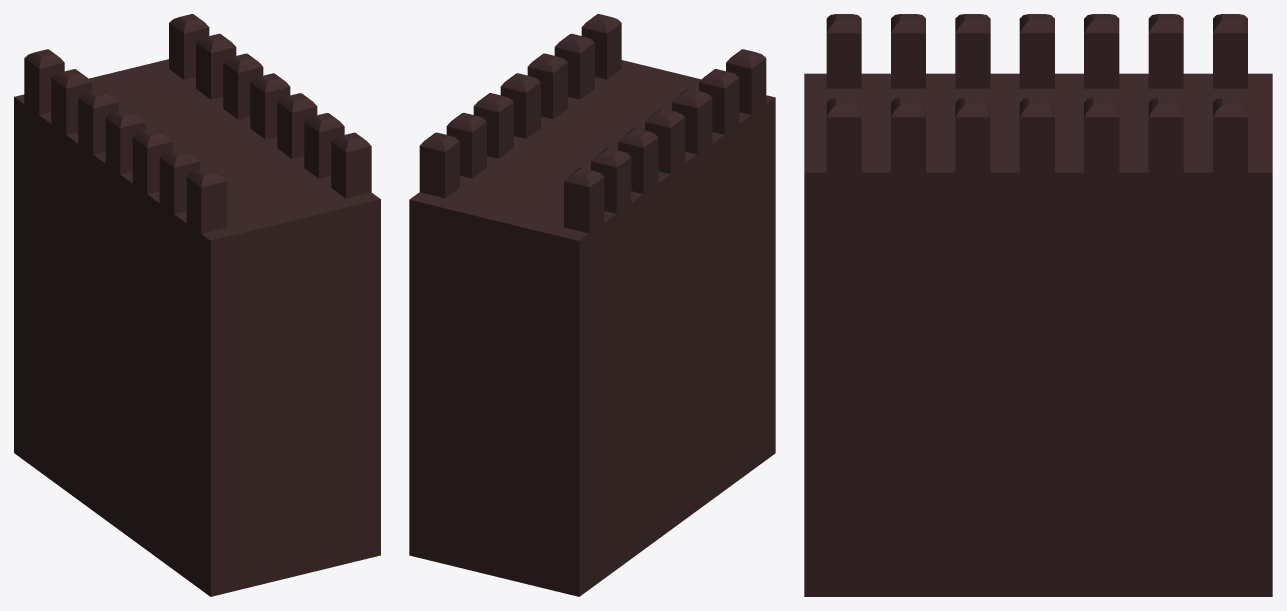
The model's file is Wall.DAE.
3 views of the same model, side by side, from view 1: azimuth 30°, elevation 25°; view 2: azimuth 150°, elevation 25°; view 3: azimuth 270°, elevation 25° (orthographic). The views are drawn at different scales.
Visible parts, largest first — view 1: Box001; view 2: Box001; view 3: Box001.
Part boxes in pixels (left/top/right/bottom): Box001: left=14, top=14, right=380, bottom=596; Box001: left=409, top=14, right=775, bottom=596; Box001: left=804, top=14, right=1272, bottom=596.
Size of the model in its own units: 10 by 20 by 23.
